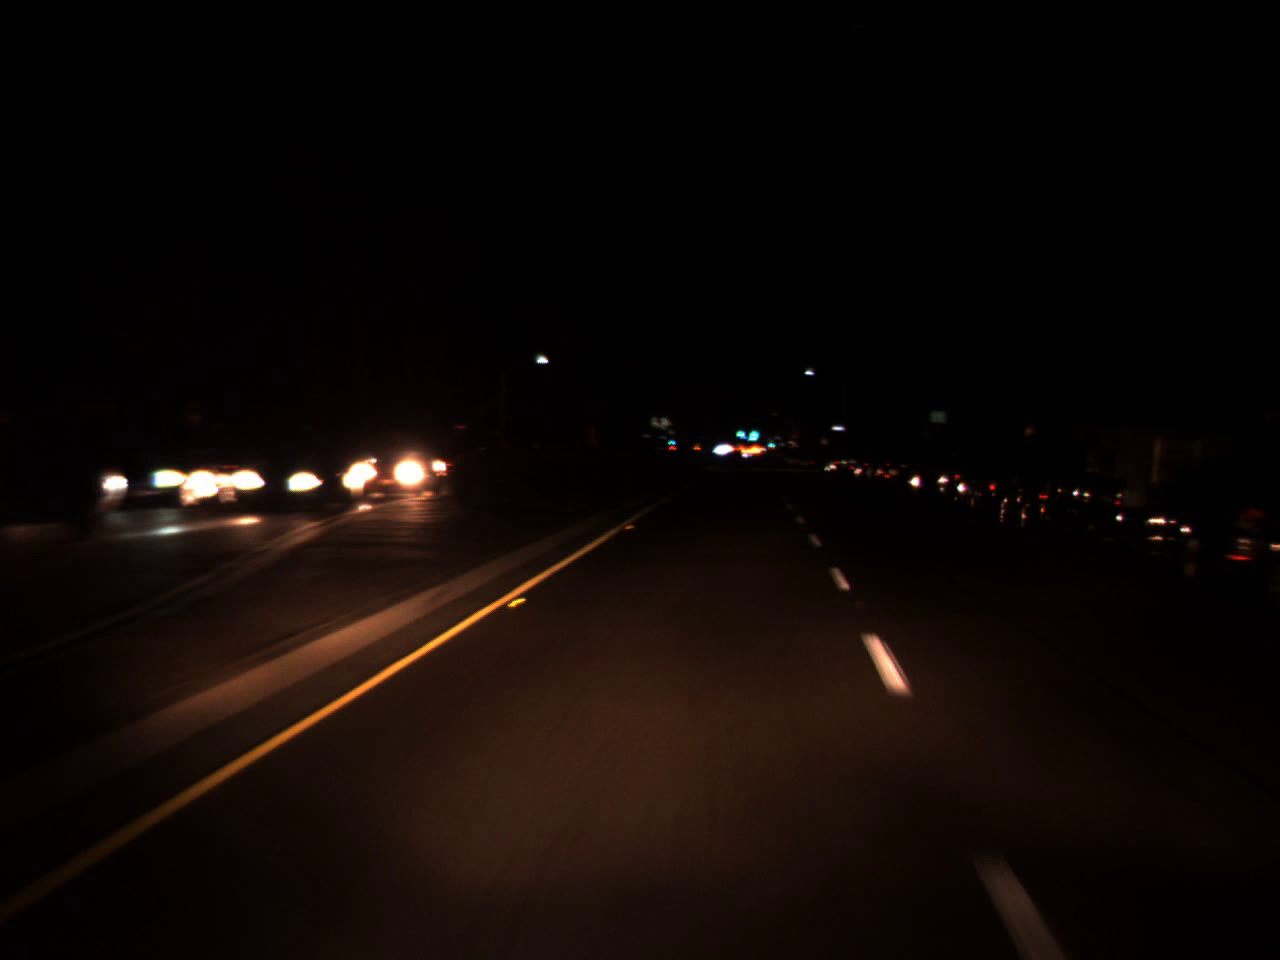go: (742, 415, 761, 445), (729, 415, 748, 442), (763, 433, 777, 451), (664, 431, 674, 446)
